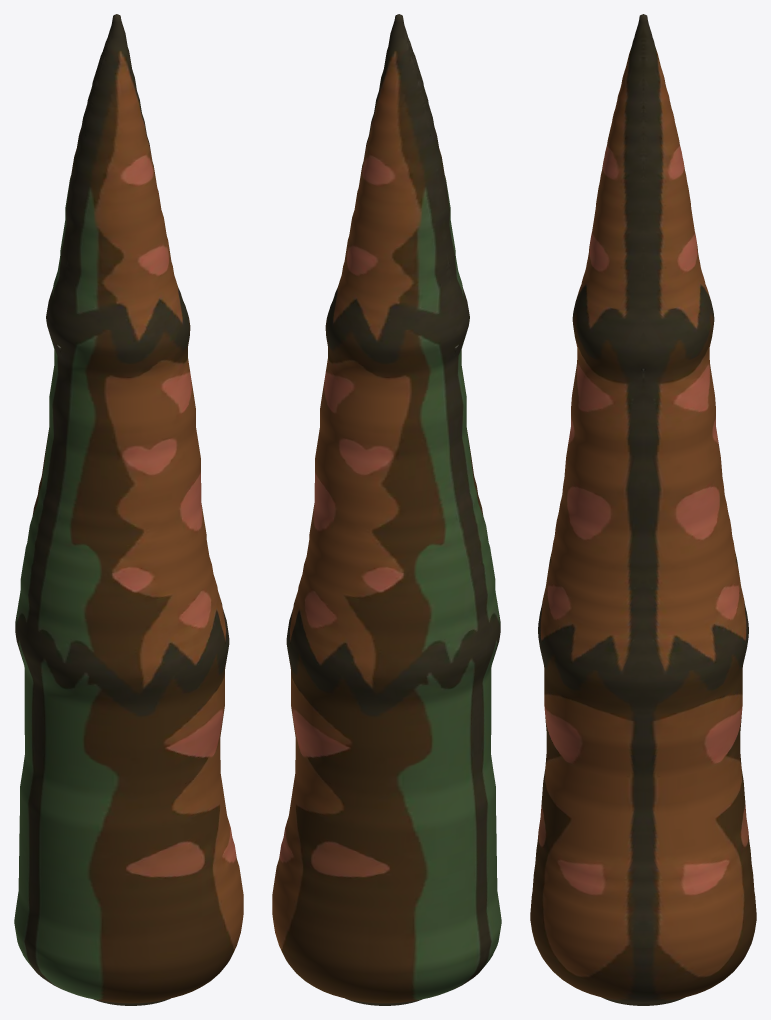
The model's file is rock_spike.glb.
3 views of the same model, side by side, from view 1: azimuth 30°, elevation 25°; view 2: azimuth 150°, elevation 25°; view 3: azimuth 270°, elevation 25° (orthographic).
Visible parts, largest first — view 1: rock_spike; view 2: rock_spike; view 3: rock_spike.
Boxes of the visible parts, x1,y1,x2,y2 form: rock_spike: (14, 14, 243, 1005); rock_spike: (272, 14, 501, 1005); rock_spike: (530, 14, 756, 1005).
Bounding box in the file's own units: 1 × 4.67 × 0.994.
1 material, 1 textured.
